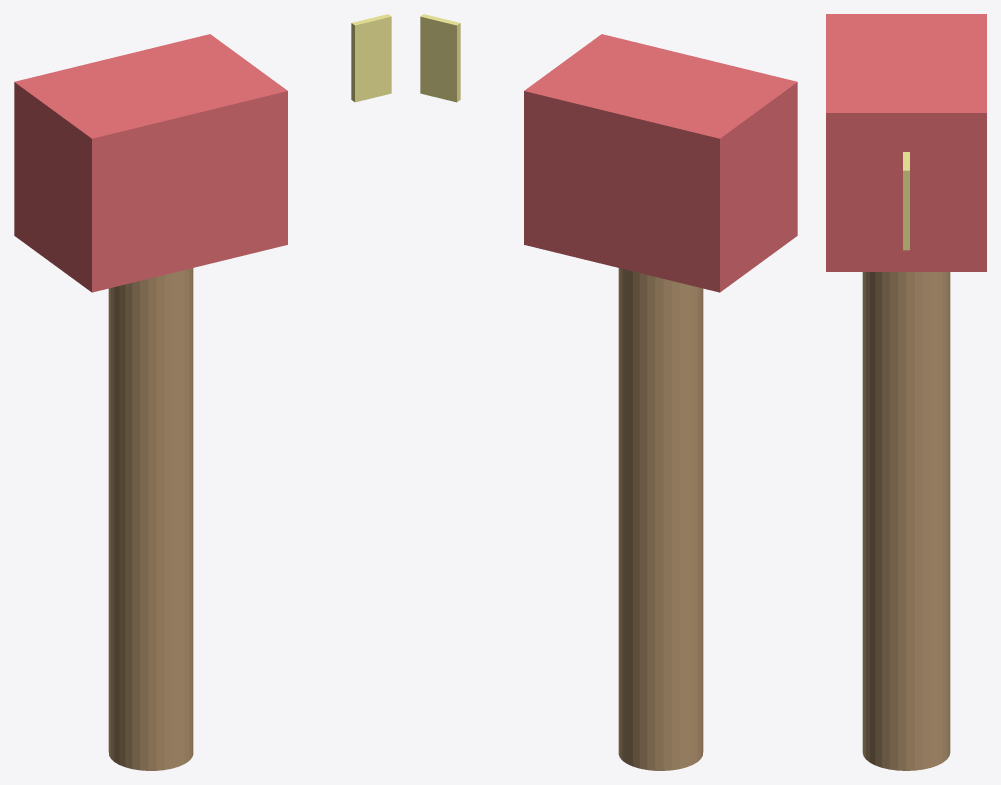
File: pickup.mailbox.v1.glb
3 renders of one model, left to right at view 1: azimuth 30°, elevation 25°; view 2: azimuth 150°, elevation 25°; view 3: azimuth 270°, elevation 25°, orthographic. The views are drawn at different scales.
Parts seen in each view (by area): view 1: pickup.mailbox.v1_box, pickup.mailbox.v1_post, pickup.mailbox.v1_flag; view 2: pickup.mailbox.v1_box, pickup.mailbox.v1_post, pickup.mailbox.v1_flag; view 3: pickup.mailbox.v1_post, pickup.mailbox.v1_box, pickup.mailbox.v1_flag.
Part boxes in pixels (left/top/right/bottom): pickup.mailbox.v1_box: left=14, top=34, right=287, bottom=292; pickup.mailbox.v1_post: left=108, top=268, right=193, bottom=770; pickup.mailbox.v1_flag: left=351, top=14, right=391, bottom=102; pickup.mailbox.v1_box: left=524, top=34, right=797, bottom=292; pickup.mailbox.v1_post: left=618, top=268, right=703, bottom=770; pickup.mailbox.v1_flag: left=420, top=14, right=460, bottom=102; pickup.mailbox.v1_post: left=862, top=272, right=950, bottom=770; pickup.mailbox.v1_box: left=826, top=14, right=986, bottom=271; pickup.mailbox.v1_flag: left=903, top=152, right=909, bottom=250.
Size of the model in its own units: 0.275 by 0.53 by 0.11.
